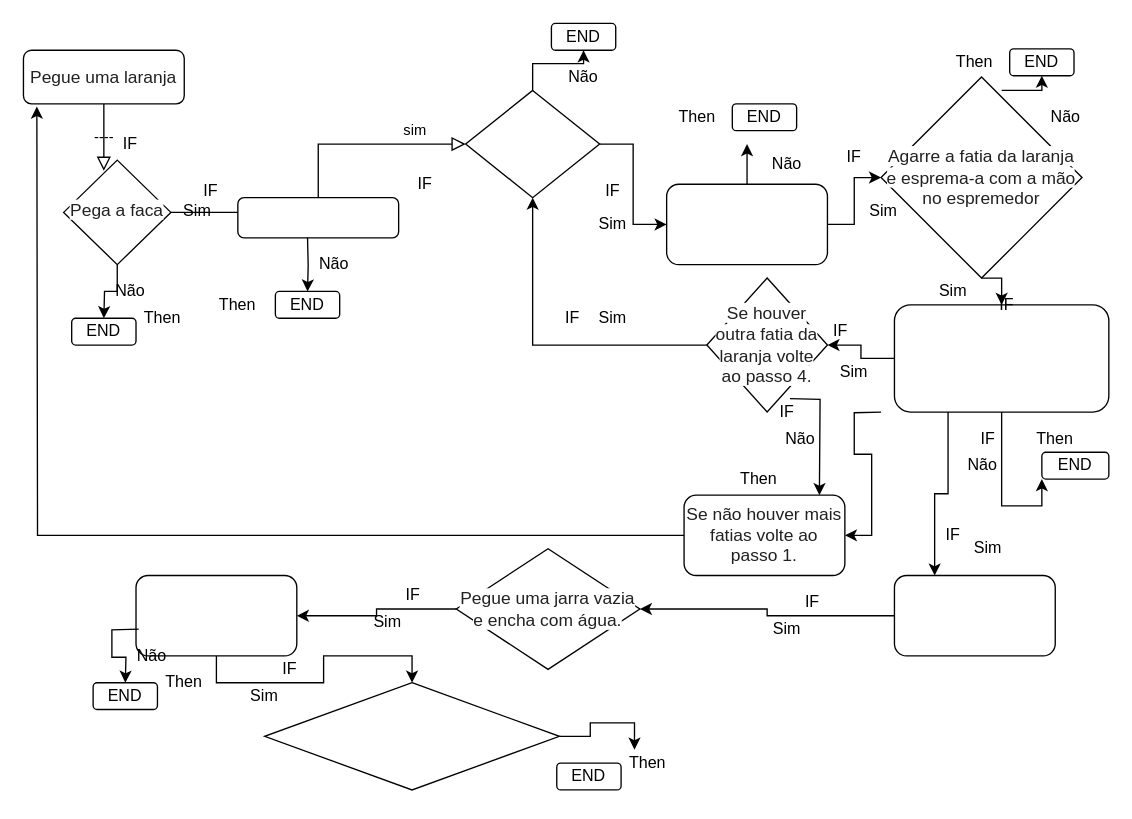
Image size: 1132x819. Some labels were removed from this diagram. Here are the shapes that lost their labels. From the top down, the box of each, then its label:
(464, 89, 600, 198): Pegue uma fatia
(237, 196, 399, 238): Corte a laranja ao meio
(665, 183, 827, 265): Pegue o espremedor
(893, 304, 1109, 412): Se tiver suco suficiente no recipiente do espremedor prossiga ao próximo passo
(135, 574, 297, 656): Quando tiver água suficiente prossiga ao próximo passo.
(893, 574, 1055, 656): Remova a laranja do espremedor
(263, 681, 559, 790): Coloque o suco do espremedor na jarra com água
